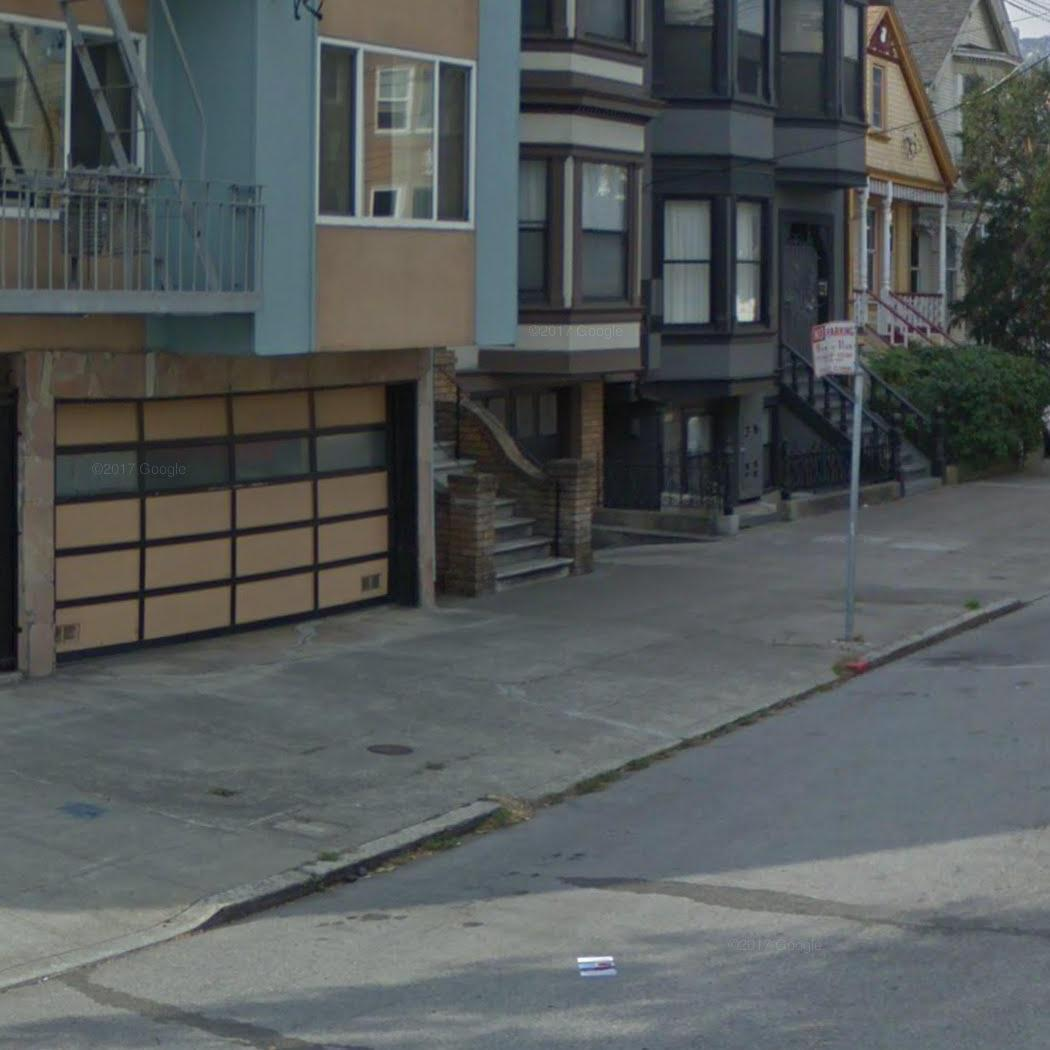No Parking: (808, 319, 861, 380)
